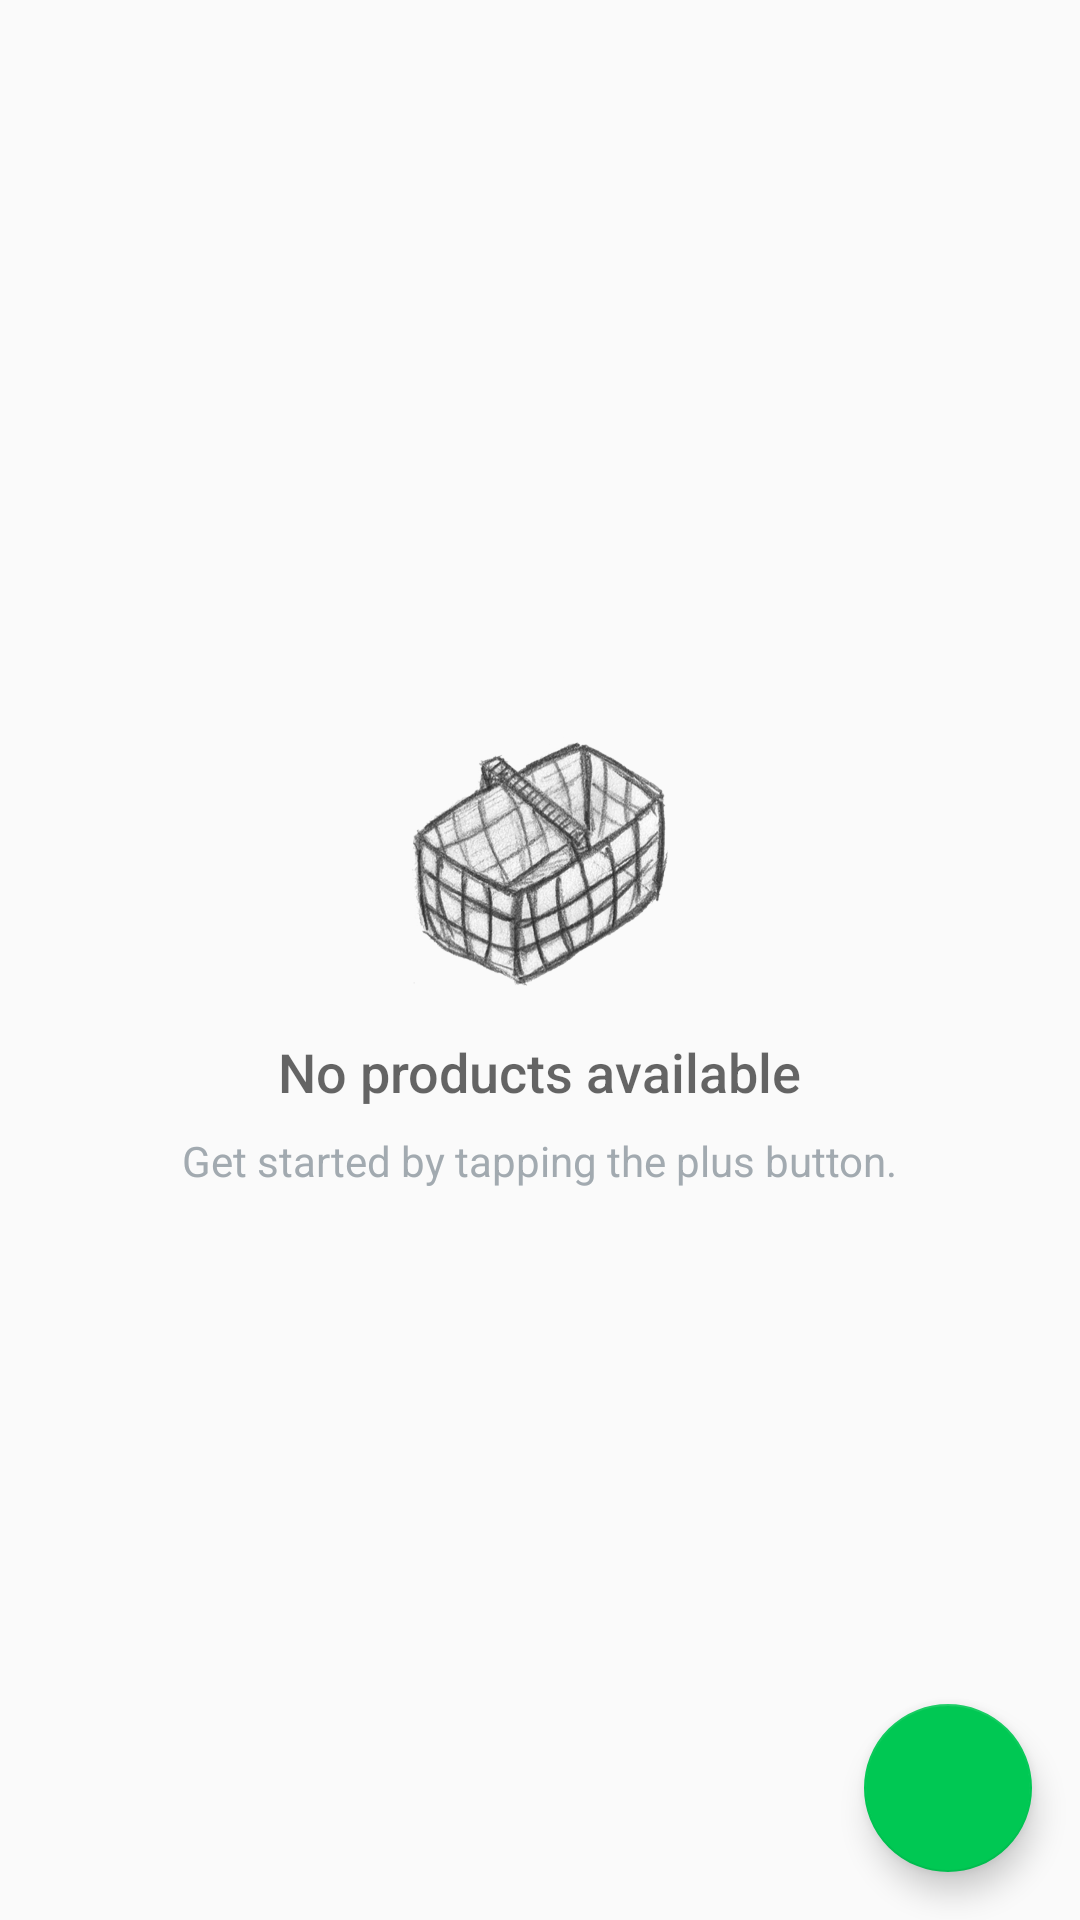

Screen size 1080*1920. Icon name, then its center in pixels as (x=x, y=y):
basket empty: (x=540, y=864)
